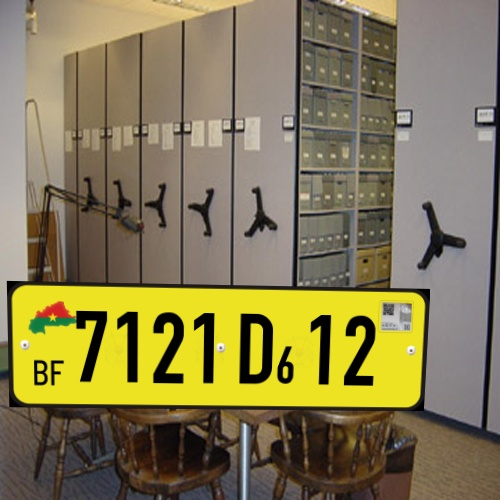plate: (2, 268, 437, 428)
